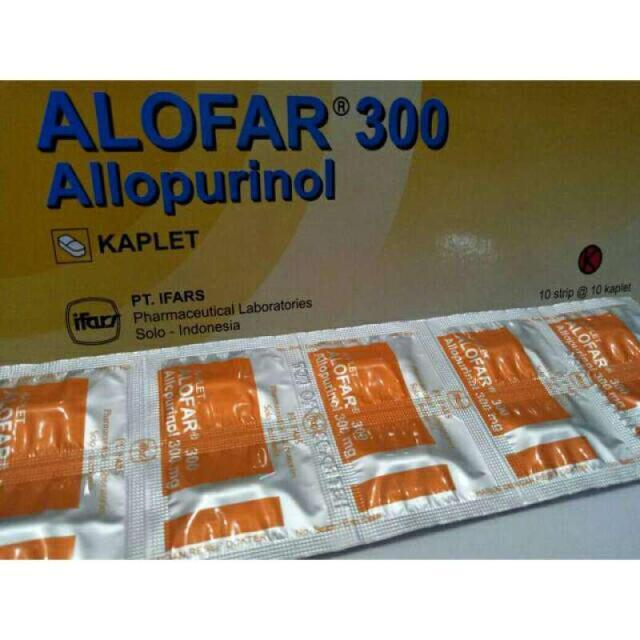drug-name: (34, 91, 454, 152)
